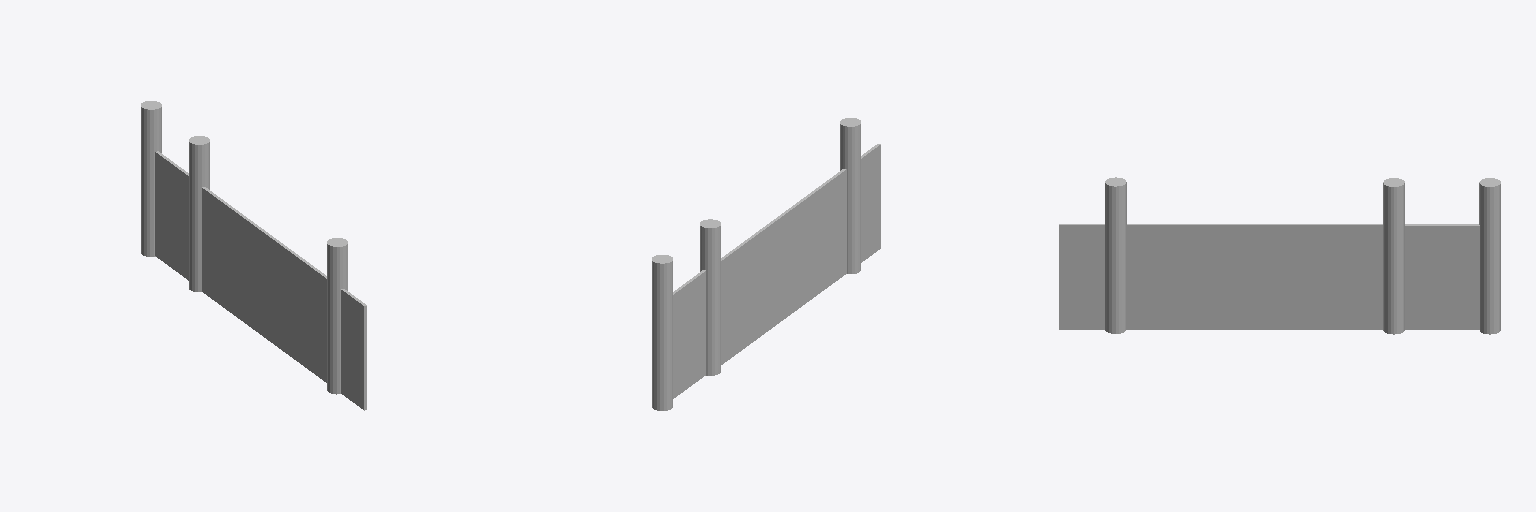
Rendered from walldouble14.obj.
3 renders of one model, left to right at view 1: azimuth 30°, elevation 25°; view 2: azimuth 150°, elevation 25°; view 3: azimuth 270°, elevation 25°, orthographic.
Parts seen in each view (by area): view 1: walldouble14; view 2: walldouble14; view 3: walldouble14.
Boxes of the visible parts, x1=… form: walldouble14: x1=141, y1=101, x2=366, y2=410; walldouble14: x1=652, y1=118, x2=880, y2=410; walldouble14: x1=1059, y1=177, x2=1500, y2=334.
Bounding box in the file's own units: 3.44 × 24.63 × 66.9.